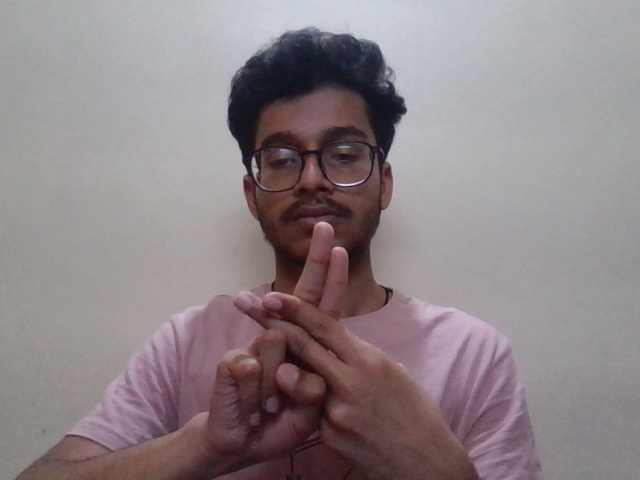disabled: (185, 220, 478, 472)
